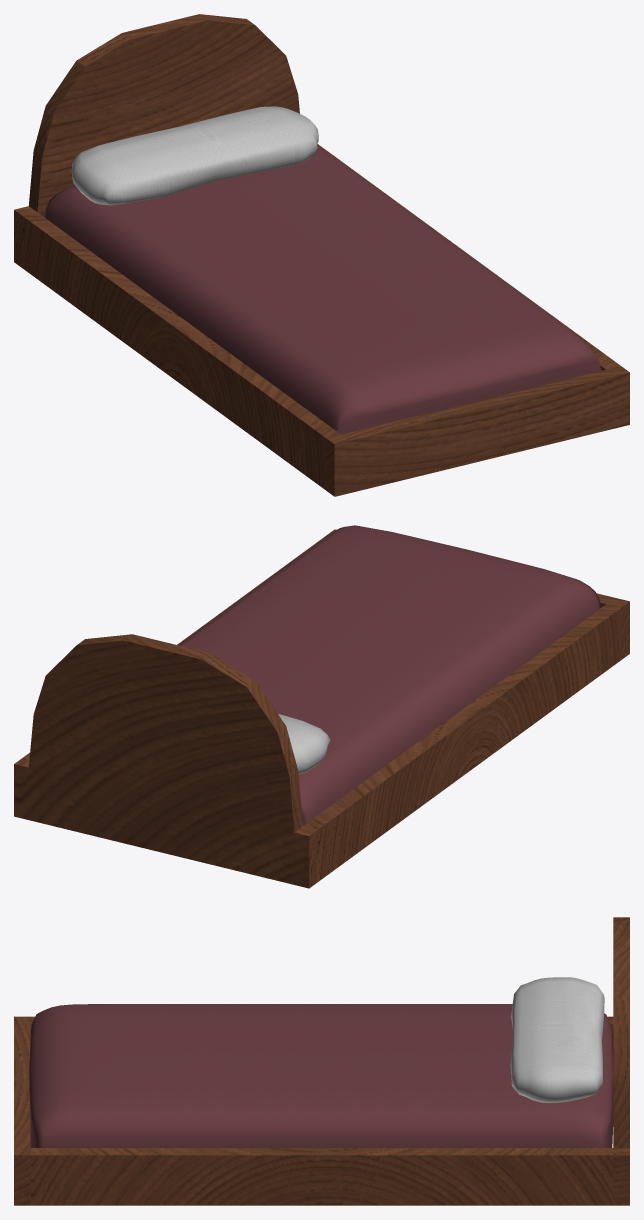
Rendered from cama.fbx.
The picture shows the model from 3 angles, top to bottom: view 1: azimuth 30°, elevation 25°; view 2: azimuth 150°, elevation 25°; view 3: azimuth 270°, elevation 25°; orthographic projection. The views are drawn at different scales.
Visible parts, largest first — view 1: cama; view 2: cama; view 3: cama.
Boxes of the visible parts, x1,y1,x2,y2 form: cama: (14, 14, 629, 496); cama: (14, 525, 629, 888); cama: (14, 917, 629, 1205).
Bounding box in the file's own units: 61.15 × 40.14 × 115.
Materials: 3 (3 with a texture image).
